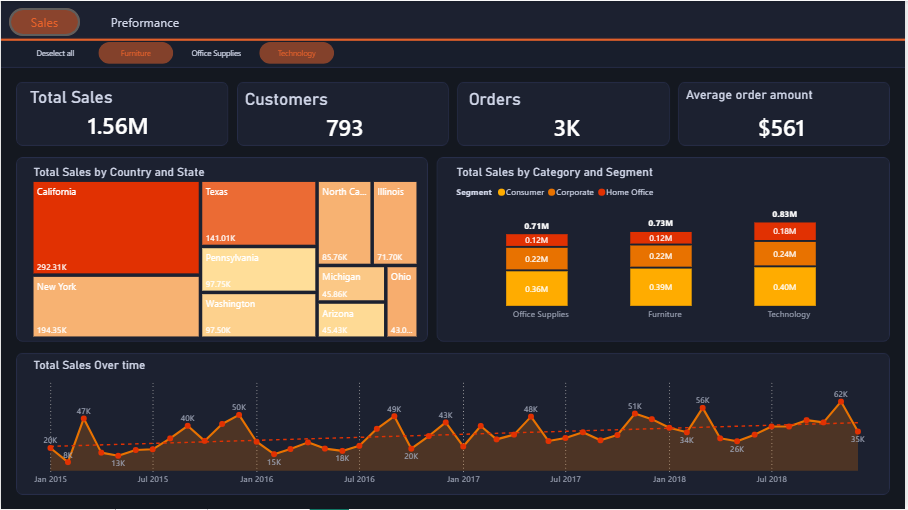

What the dashboard file says about the page in this screenshot:
{"tool":"powerbi","page":{"name":"Overview","canvas":[1280,720],"ordinal":0},"visuals":[{"type":"treemap","title":"Total Sales by  State","fields":{"Group":["location.Country Hierarchy.State"],"Values":["__Measures.Total_Sales"]},"box":[41.1,232.4,552.8,248],"z":0},{"type":"columnChart","title":"Total Sales by Category and Segment","fields":{"Category":["Products.Category Hierarchy.Category","Products.Category Hierarchy.Sub-Category"],"Y":["__Measures.Total_Sales"],"Series":["Customers.Segment"]},"box":[640.6,232.4,600.9,229.6],"z":1000},{"type":"cardVisual","title":"Total Sales","fields":{"Data":["__Measures.Total_Sales"]},"box":[41.1,121.9,249.4,73.7],"z":2000},{"type":"cardVisual","title":"Customers","fields":{"Data":["__Measures.Customers_count"]},"box":[345.8,124.7,283.5,70.9],"z":3000},{"type":"cardVisual","title":"Orders","fields":{"Data":["__Measures.Orders"]},"box":[663.3,124.7,277.8,70.9],"z":4000},{"type":"actionButton","box":[11.3,9.9,100.6,39.7],"z":5000},{"type":"actionButton","box":[127.6,9.9,153.1,39.7],"z":6000},{"type":"advancedSlicerVisual","fields":{"Values":["Products.Category"]},"box":[24,58,450.7,31],"z":7000},{"type":"areaChart","title":"Total Sales Over time","fields":{"Category":["data.Date.Variation.Date Hierarchy.Year","data.Date.Variation.Date Hierarchy.Quarter","data.Date.Variation.Date Hierarchy.Month","data.Date.Variation.Date Hierarchy.Day"],"Y":["__Measures.Total_Sales"]},"box":[41.1,506,1200.5,189.9],"z":8000},{"type":"cardVisual","title":"Average order amount","fields":{"Data":["__Measures.averge_order amount"]},"box":[970.9,121.9,270.7,83.6],"z":9000}]}

Visuals, with their boxes in screenshot pixels (x1, y1, x2, y2), scaled from the page's 1280x720 canvas onto the 908x510 screenshot:
"Total Sales by  State" treemap: [left=29, top=165, right=421, bottom=340]
"Total Sales by Category and Segment" columnChart: [left=454, top=165, right=881, bottom=327]
"Total Sales" cardVisual: [left=29, top=86, right=206, bottom=139]
"Customers" cardVisual: [left=245, top=88, right=446, bottom=139]
"Orders" cardVisual: [left=471, top=88, right=668, bottom=139]
actionButton: [left=8, top=7, right=79, bottom=35]
actionButton: [left=91, top=7, right=199, bottom=35]
advancedSlicerVisual - Products.Category: [left=17, top=41, right=337, bottom=63]
"Total Sales Over time" areaChart: [left=29, top=358, right=881, bottom=493]
"Average order amount" cardVisual: [left=689, top=86, right=881, bottom=146]
